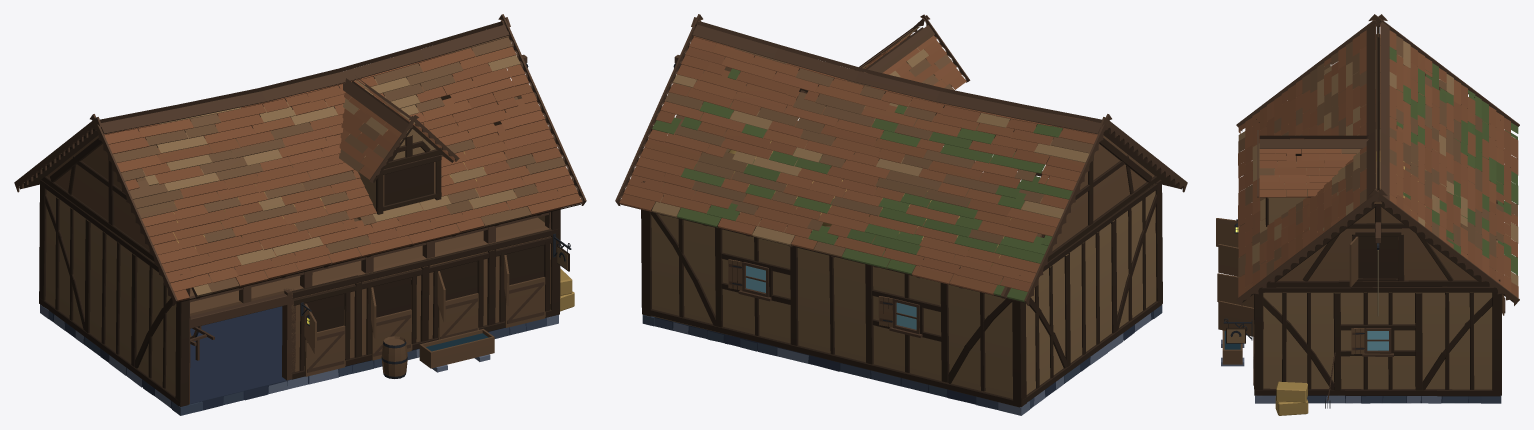
The model's file is stable.glb.
The picture shows the model from 3 angles, left to right: view 1: azimuth 30°, elevation 25°; view 2: azimuth 150°, elevation 25°; view 3: azimuth 270°, elevation 25°; orthographic projection. The views are drawn at different scales.
Parts seen in each view (by area): view 1: isl_stable; view 2: isl_stable; view 3: isl_stable.
Boxes of the visible parts, x1,y1,x2,y2 form: isl_stable: (14, 14, 586, 415); isl_stable: (615, 14, 1187, 415); isl_stable: (1216, 14, 1519, 415).
Bounding box in the file's own units: 12.2 × 6.8 × 8.46.
